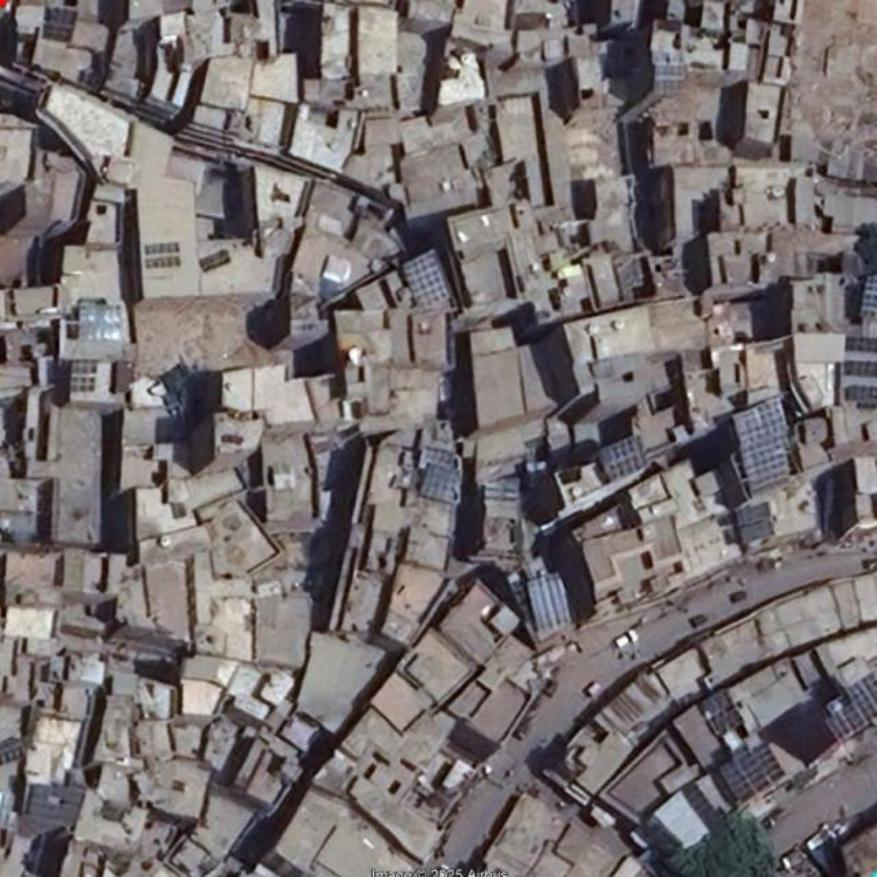Solarpanel: (731, 396, 791, 486), (720, 741, 787, 808), (827, 671, 876, 742), (401, 250, 450, 306), (25, 787, 87, 825), (702, 691, 746, 737), (601, 434, 645, 479), (419, 462, 459, 507), (43, 9, 74, 42), (653, 65, 686, 93), (842, 357, 876, 379), (860, 274, 876, 316), (74, 361, 95, 392), (845, 384, 876, 400), (846, 337, 876, 351)
